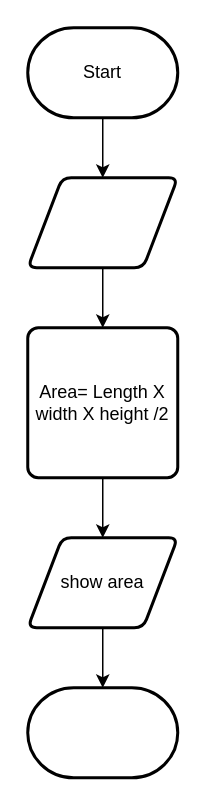
The diagram is 204 pixels wide and 804 high, and some of its shapes have lost their labels. Here are the shapes that lost their labels. From the top down, the box of each, then its label:
(26, 176, 178, 268): Enter the length,width, and height of pyramid
(26, 686, 178, 778): Stop
